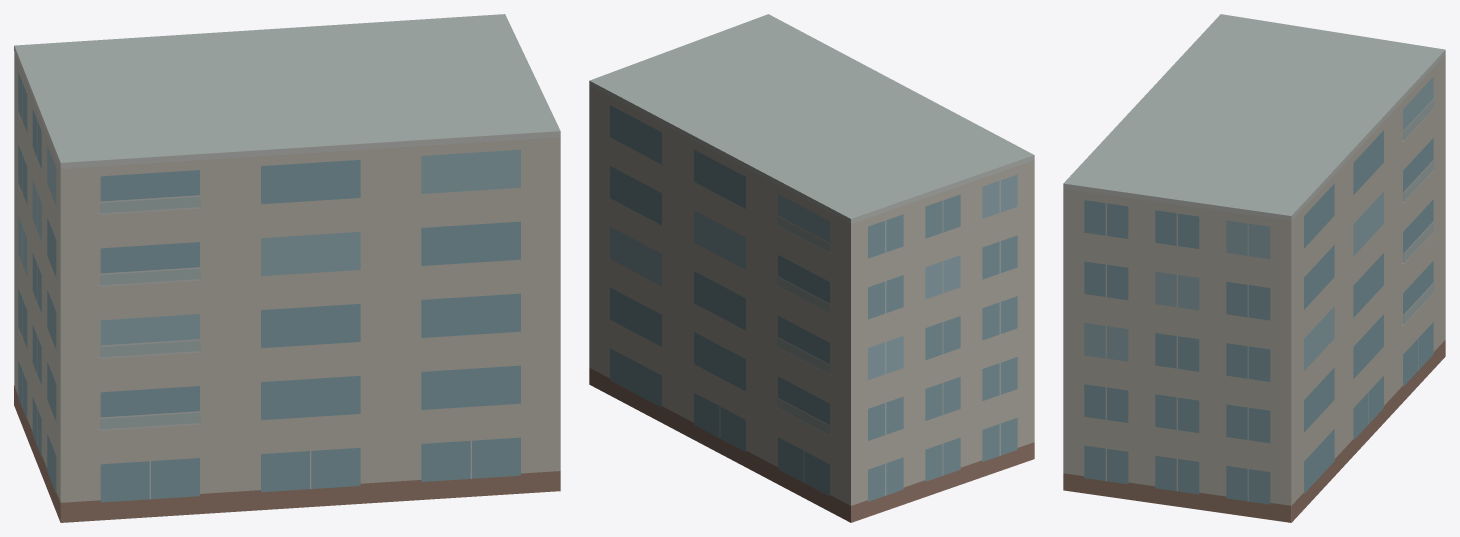
Rendered from survey-upis-32988800.glb.
3 renders of one model, left to right at view 1: azimuth 30°, elevation 25°; view 2: azimuth 150°, elevation 25°; view 3: azimuth 270°, elevation 25°, orthographic. The views are drawn at different scales.
Parts seen in each view (by area): view 1: survey-upis-32988800.tmp; view 2: survey-upis-32988800.tmp; view 3: survey-upis-32988800.tmp.
Part boxes in pixels (left/top/right/bottom): survey-upis-32988800.tmp: left=14, top=14, right=560, bottom=522; survey-upis-32988800.tmp: left=589, top=14, right=1034, bottom=522; survey-upis-32988800.tmp: left=1063, top=14, right=1445, bottom=522.
Bounding box in the file's own units: 20.92 × 14.8 × 16.73.
